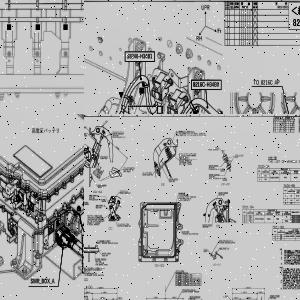PartNumber: (126, 52, 152, 60), (193, 81, 219, 88), (208, 164, 218, 167), (285, 235, 295, 238), (97, 184, 107, 186), (95, 258, 105, 260), (189, 296, 199, 298), (270, 295, 280, 297), (202, 224, 212, 226), (254, 218, 264, 220), (102, 252, 111, 254), (219, 192, 228, 194), (209, 174, 218, 176), (291, 221, 300, 223), (291, 215, 300, 217), (169, 179, 178, 180), (291, 219, 300, 220), (291, 217, 300, 218), (296, 235, 300, 237), (84, 126, 86, 128)
